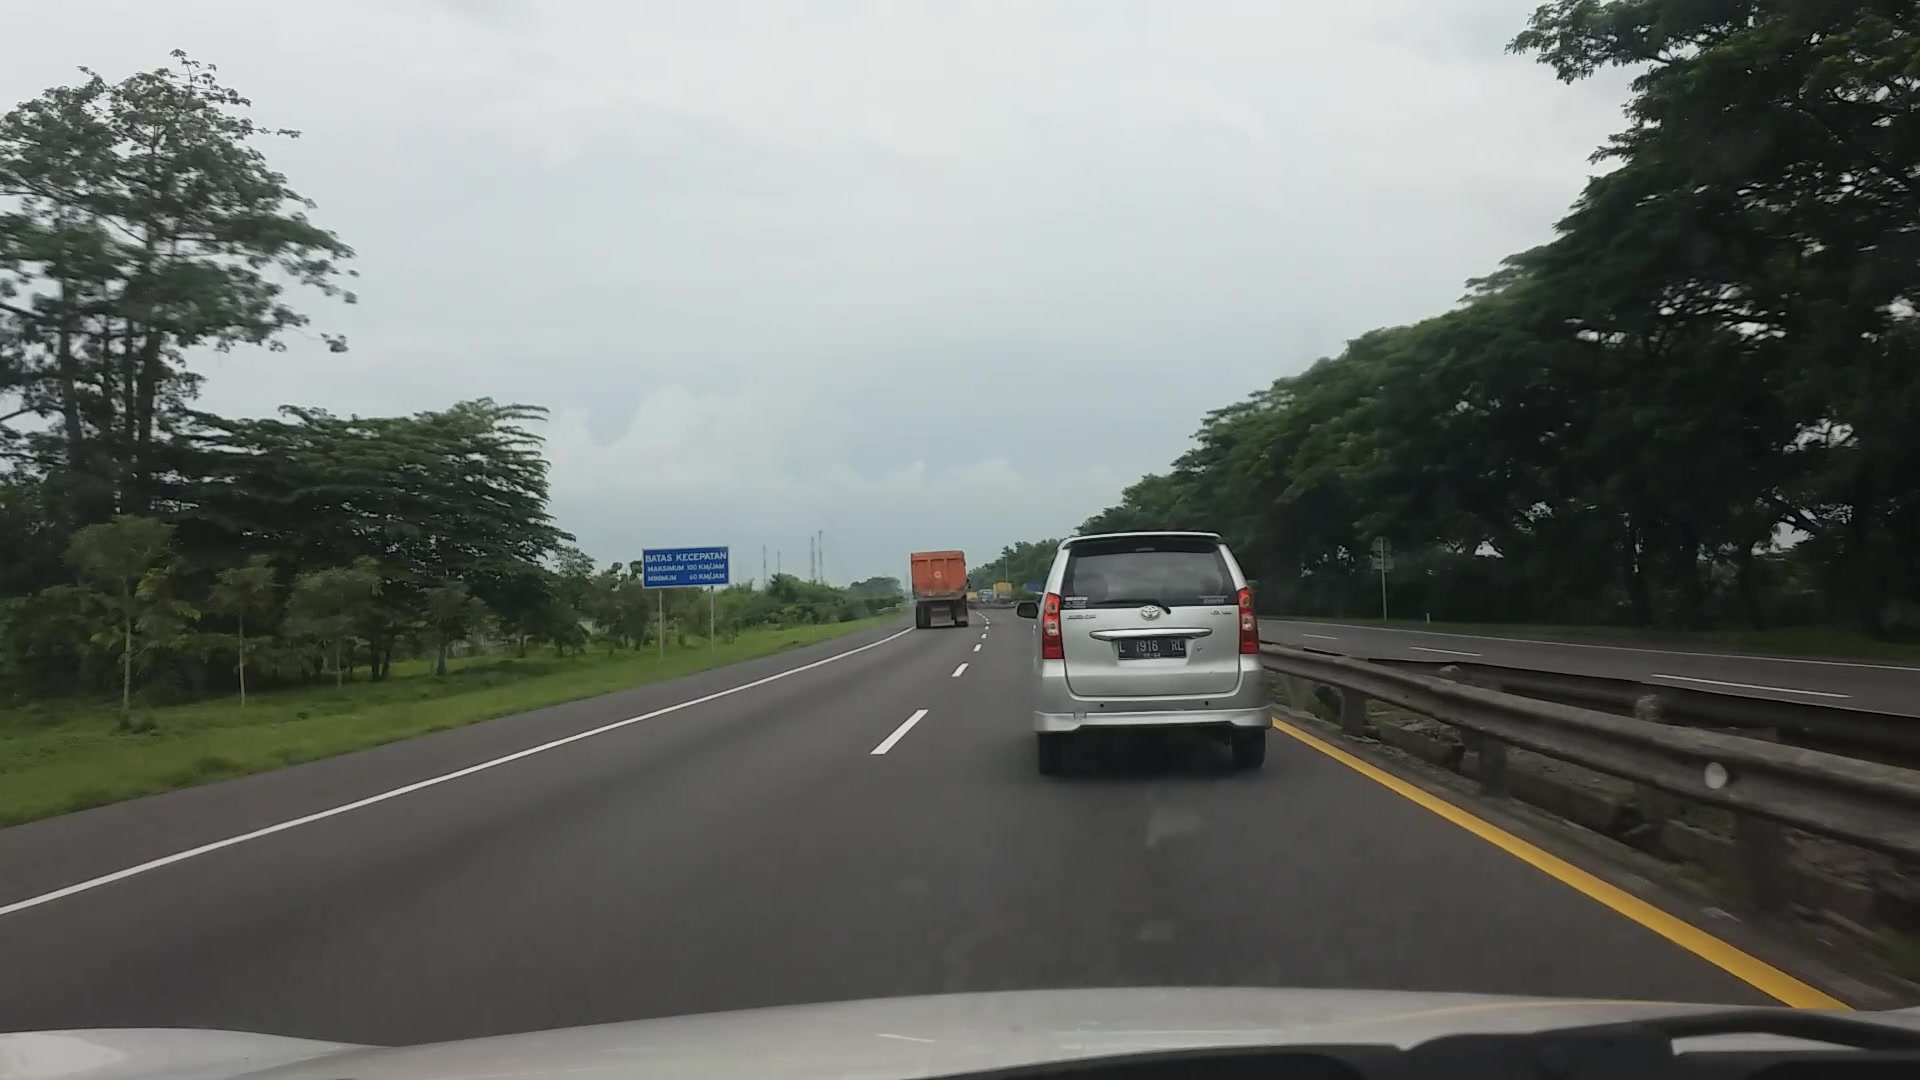plate_positive: (1118, 636, 1185, 659)
